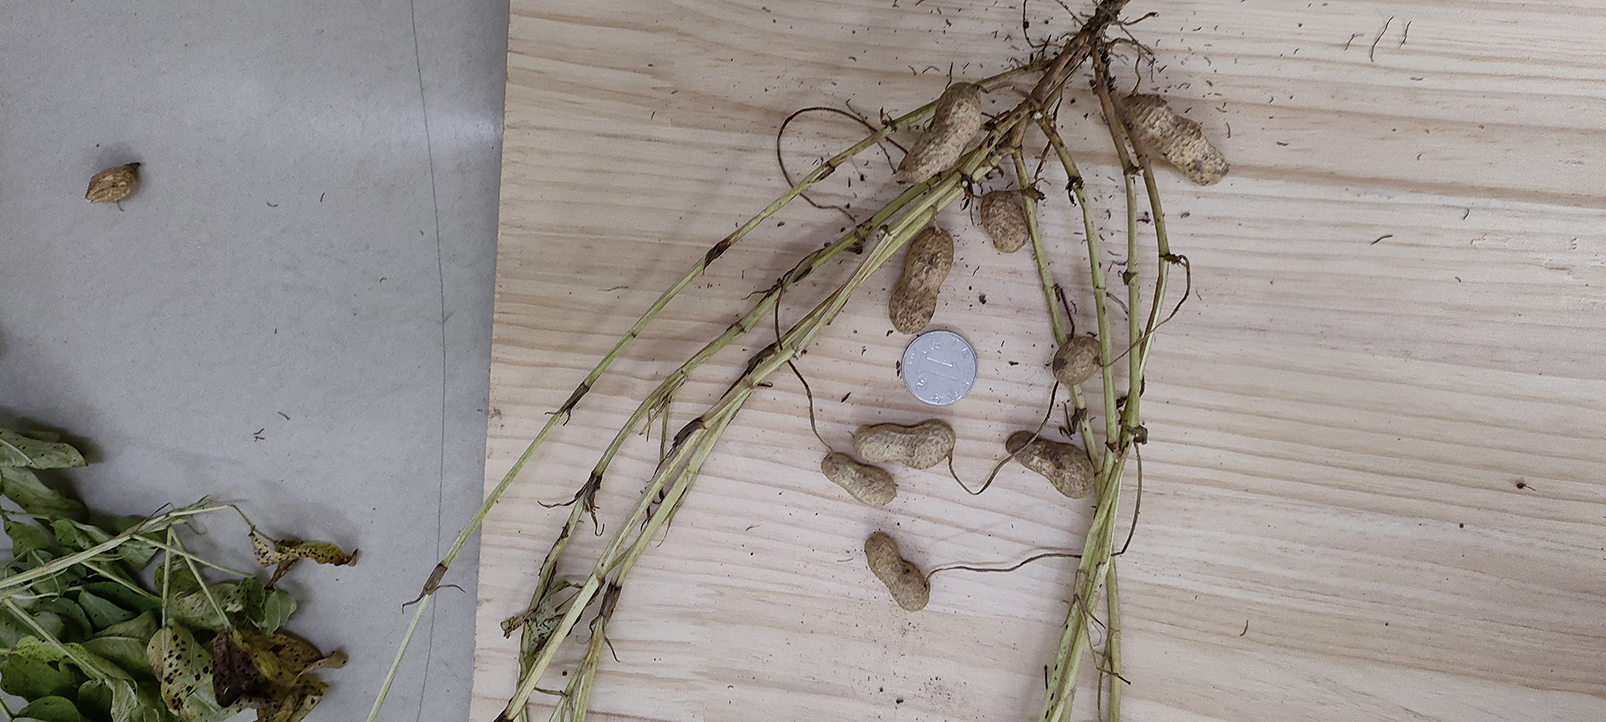h: (1123, 93, 1230, 183), (897, 82, 982, 185), (888, 229, 955, 335), (853, 418, 956, 472), (863, 533, 931, 610), (820, 448, 897, 508), (979, 192, 1031, 253), (1052, 335, 1102, 386)
l: (1005, 432, 1098, 500)
